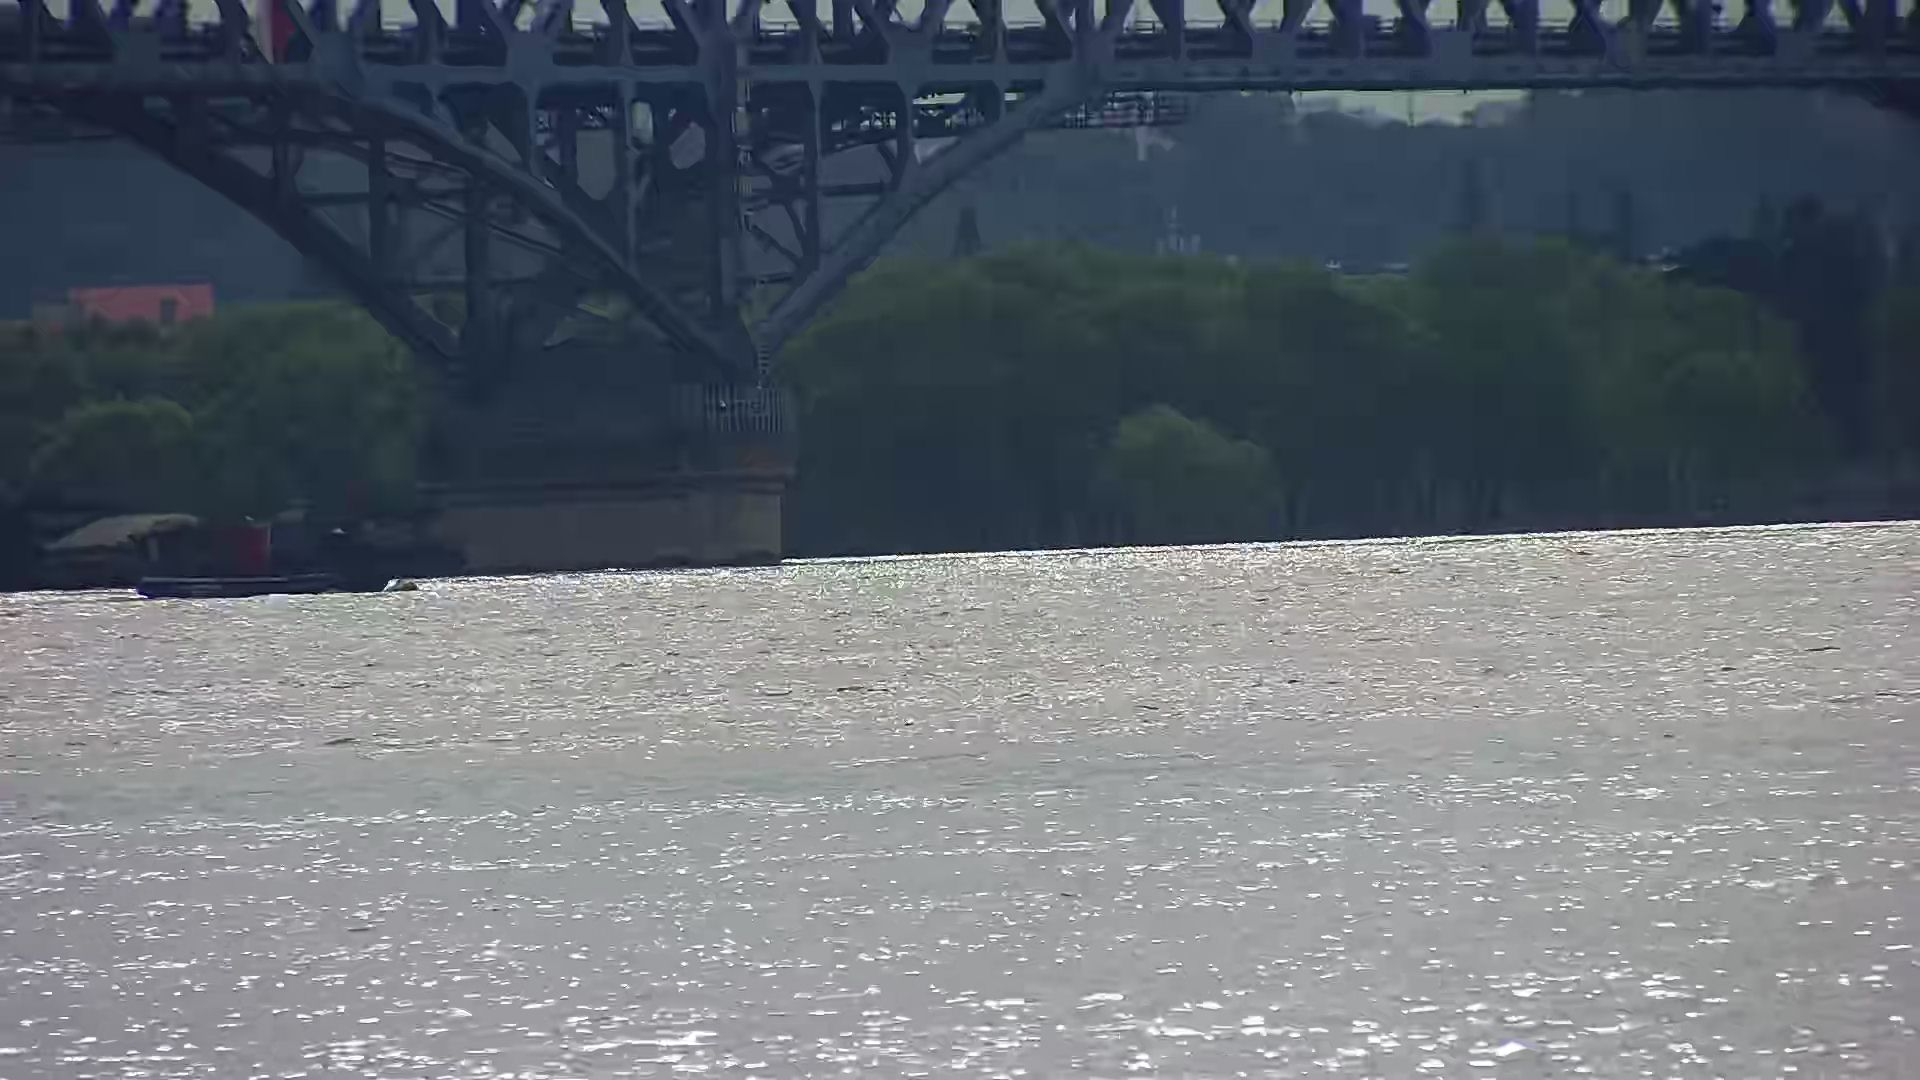boat: (124, 505, 426, 603)
bridge: (1, 1, 1913, 587)
